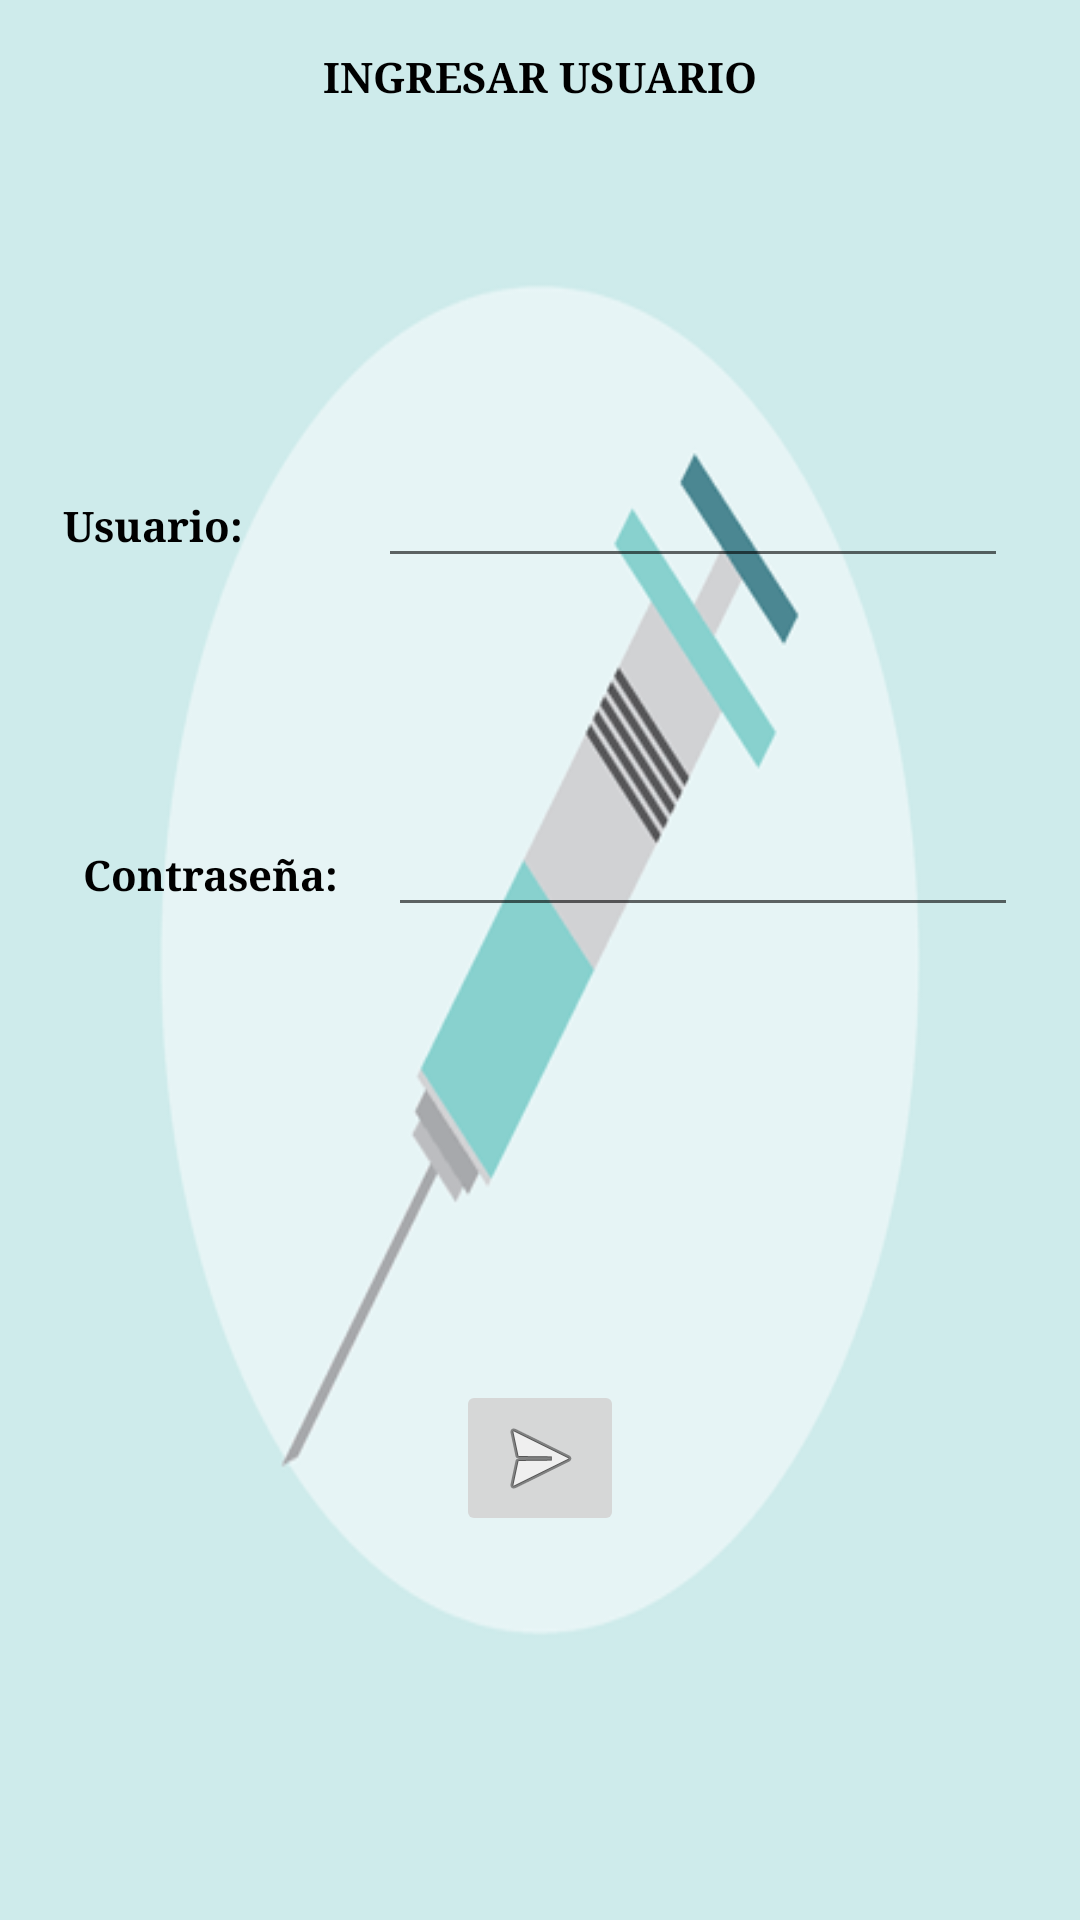

Icon bounding boxes for this 1080×1920 phone screenshot, format {"left": x1, "top": y1, "right": x2, "bottom": y2}:
send: {"left": 468, "top": 1398, "right": 612, "bottom": 1518}
